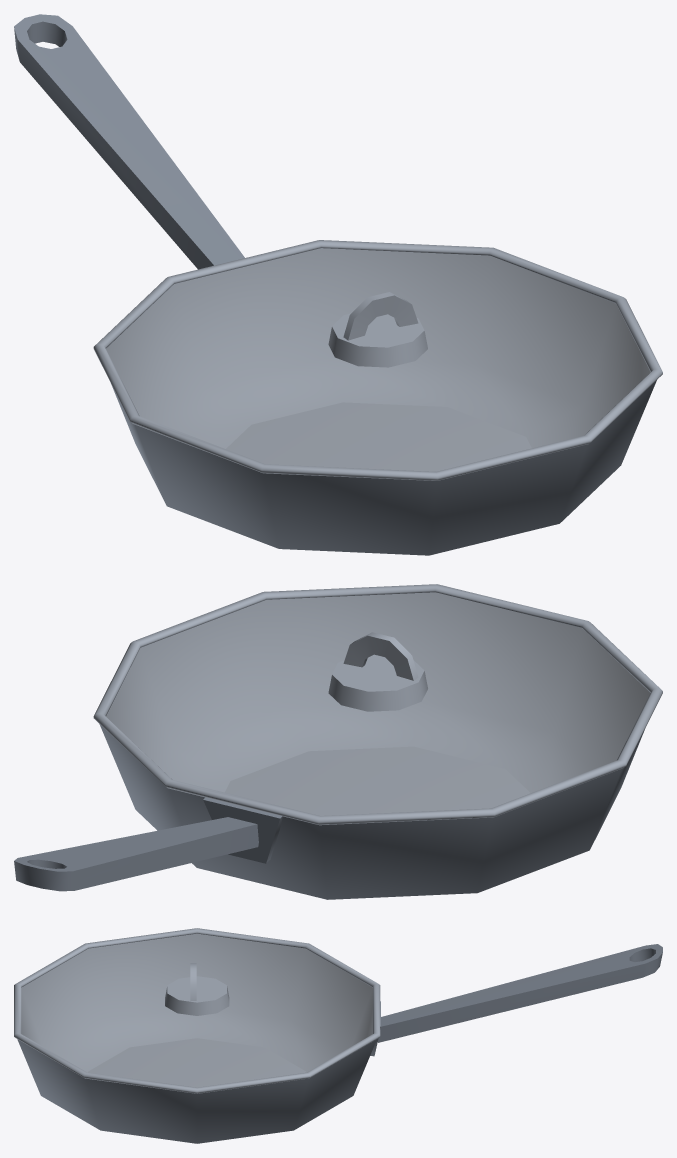
File: cooking_assets_pan_saute_pan.glb
3 views of the same model, one above another, from view 1: azimuth 30°, elevation 25°; view 2: azimuth 150°, elevation 25°; view 3: azimuth 270°, elevation 25° (orthographic). The views are drawn at different scales.
Parts seen in each view (by area): view 1: pan_saute_pan_Cylinder.078, pan_saute_pan_lid_Cylinder.079; view 2: pan_saute_pan_Cylinder.078, pan_saute_pan_lid_Cylinder.079; view 3: pan_saute_pan_Cylinder.078, pan_saute_pan_lid_Cylinder.079.
Part boxes in pixels (<box>): pan_saute_pan_Cylinder.078: <box>14,14,656,555</box>; pan_saute_pan_lid_Cylinder.079: <box>93,240,662,480</box>; pan_saute_pan_Cylinder.078: <box>14,592,650,899</box>; pan_saute_pan_lid_Cylinder.079: <box>93,584,662,825</box>; pan_saute_pan_Cylinder.078: <box>17,933,662,1143</box>; pan_saute_pan_lid_Cylinder.079: <box>14,928,380,1093</box>.
Bounding box in the file's own units: 6.86 × 2.73 × 11.55.
Materials: 2 (2 with a texture image).
